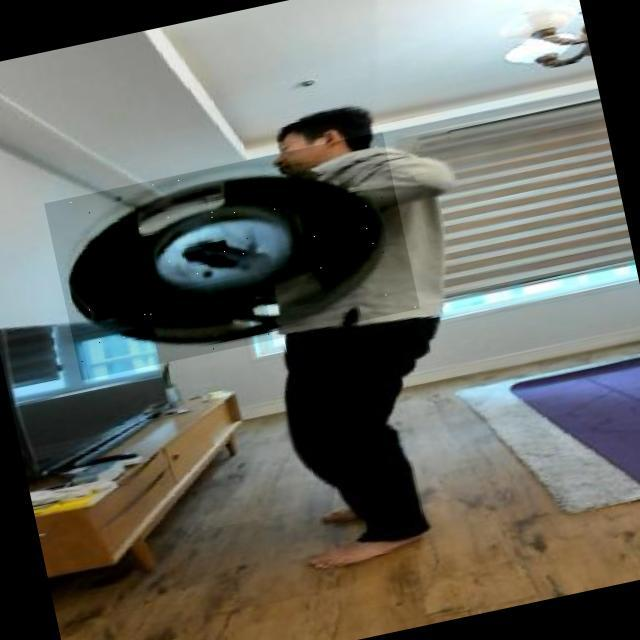barbell: (45, 132, 421, 381)
